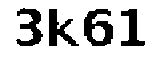1: (119, 7, 151, 53)
3: (11, 5, 44, 47)
6: (83, 6, 116, 50)
k: (49, 6, 82, 56)
